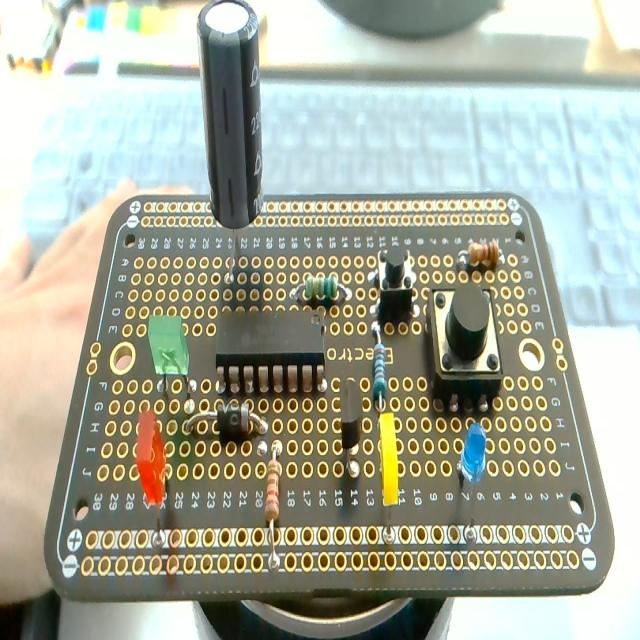Electrolytic capacitor: (198, 3, 264, 289)
IC: (213, 306, 325, 392)
diode: (185, 400, 268, 442)
led: (134, 406, 172, 547), (372, 405, 408, 539), (453, 416, 491, 531), (147, 311, 190, 383)
resistor: (264, 440, 283, 569), (297, 266, 347, 300), (460, 239, 500, 272), (372, 324, 386, 406)
switch: (428, 274, 507, 412), (372, 247, 417, 325)
transistor: (338, 377, 361, 477)
